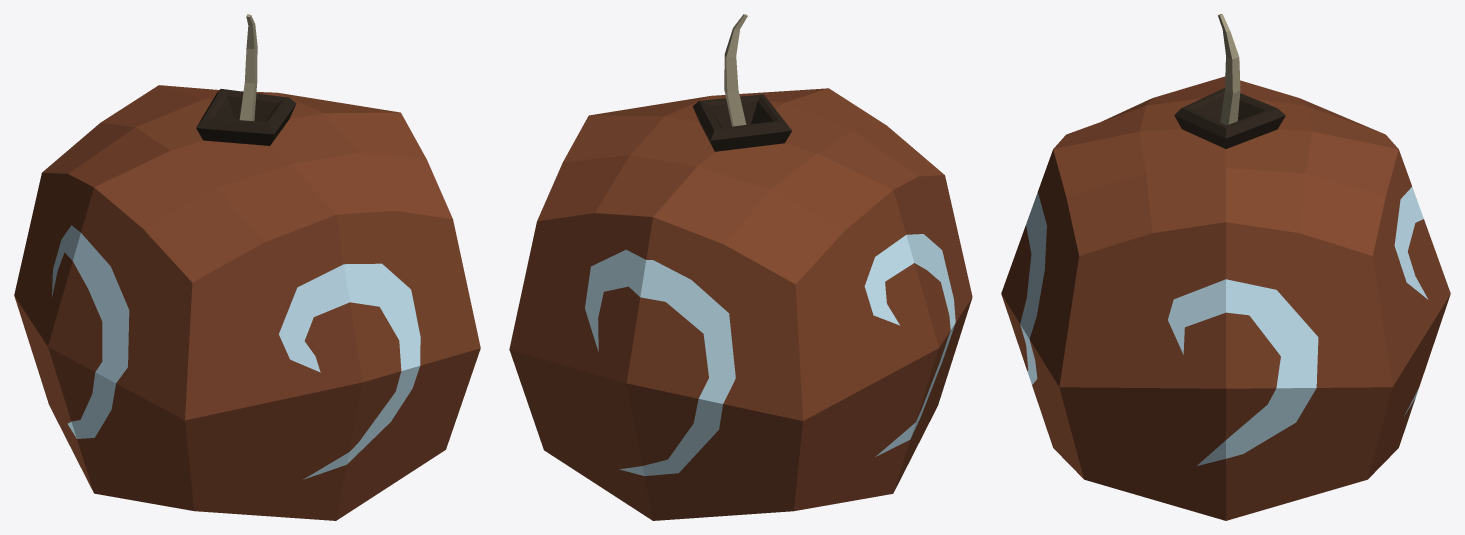
File: SilverBomb.fbx
3 views of the same model, side by side, from view 1: azimuth 30°, elevation 25°; view 2: azimuth 150°, elevation 25°; view 3: azimuth 270°, elevation 25° (orthographic). The views are drawn at different scales.
Parts seen in each view (by area): view 1: Cube.003; view 2: Cube.003; view 3: Cube.003.
Boxes of the visible parts, bbox=[...] form: Cube.003: bbox=[14, 14, 480, 520]; Cube.003: bbox=[509, 14, 972, 520]; Cube.003: bbox=[1001, 14, 1450, 520].
Size of the model in its own units: 12.69 by 14.46 by 12.69.
